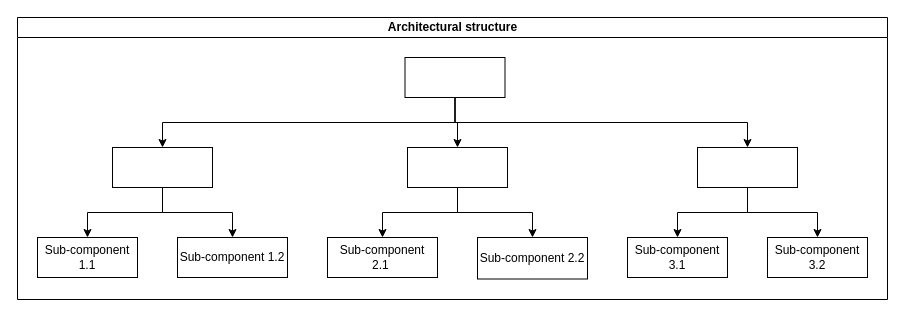
This 905x317 diagram has some shape labels left out. Each missing label, with the centre of its shape:
Component 1: pixel 162 167
Component 2: pixel 457 167
Component 3: pixel 747 167
Hradware: pixel 454 77
